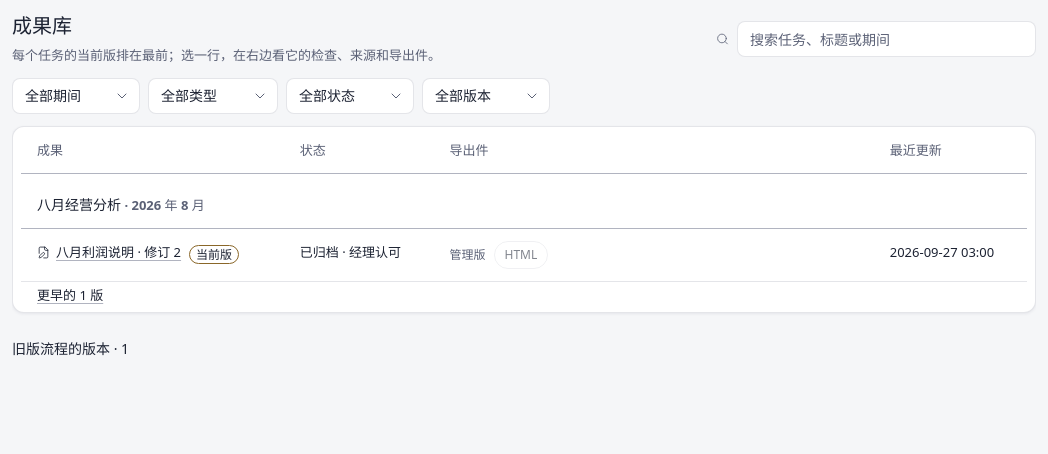
the 成果库 list › puts a task's newest revision first as 当前版 and folds the earlier ones
Expected: the row "八月利润说明 · 修订 2 当前版 已归档 · 经理认可 管理版 HTML 2026-09-27 03:00" is shown, left=21, top=228, right=1027, bottom=282
Expected: the cell "已归档 · 经理认可" is shown, left=284, top=228, right=434, bottom=282
Click the button "更早的 1 版". click: (70, 295)
box: left=37, top=284, right=103, bottom=306
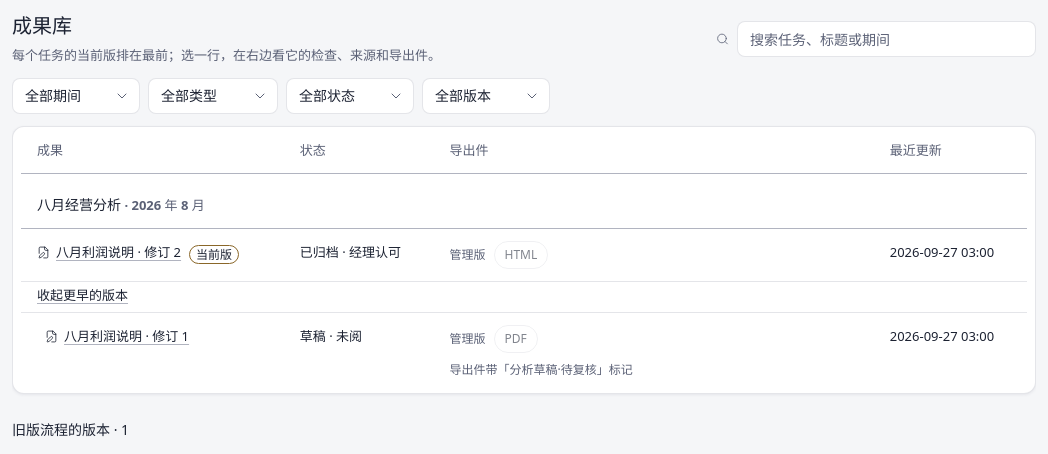
Now the button named "更早的 1 版" is expanded, box left=37, top=284, right=128, bottom=306
Now the cell "草稿 · 未阅" is shown, box left=284, top=312, right=434, bottom=393
Now the row "八月利润说明 · 修订 1" shows "导出件带「分析草稿·待复核」标记", box left=21, top=312, right=1027, bottom=393
